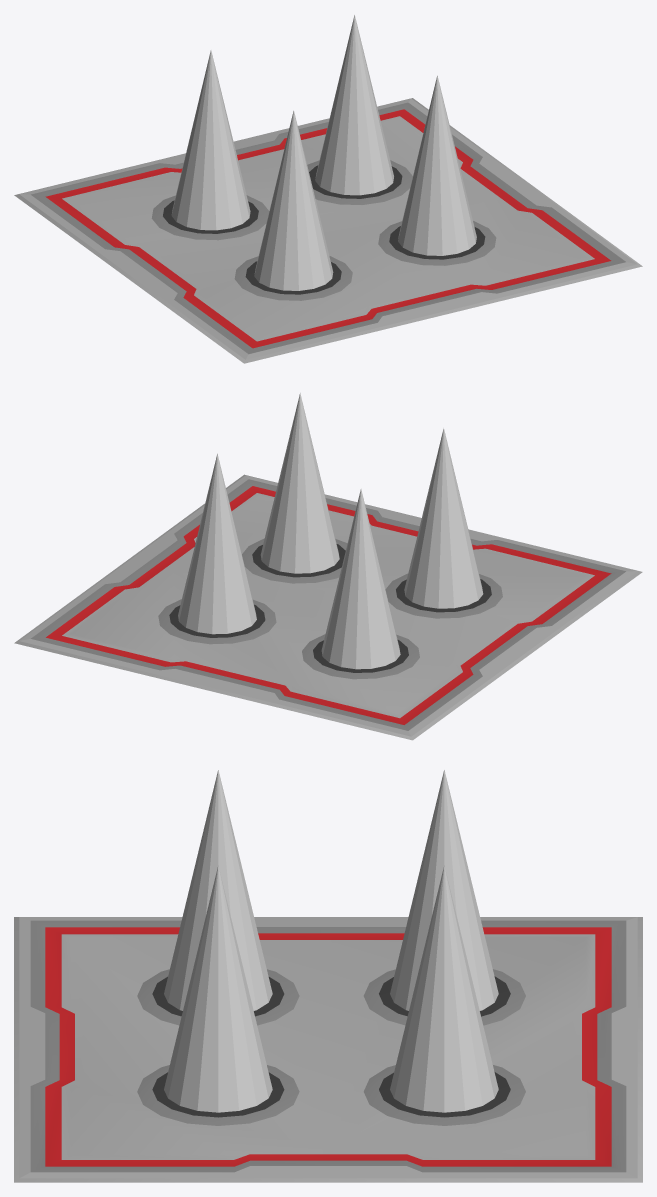
Rendered from Spikes.fbx.
3 views of the same model, one above another, from view 1: azimuth 30°, elevation 25°; view 2: azimuth 150°, elevation 25°; view 3: azimuth 270°, elevation 25° (orthographic). The views are drawn at different scales.
Parts seen in each view (by area): view 1: FloorTile_Basic2.001, Cone.001; view 2: FloorTile_Basic2.001, Cone.001; view 3: FloorTile_Basic2.001, Cone.001.
Part boxes in pixels (bbox=[...]): FloorTile_Basic2.001: bbox=[14, 98, 642, 363]; Cone.001: bbox=[171, 15, 476, 290]; FloorTile_Basic2.001: bbox=[14, 474, 642, 740]; Cone.001: bbox=[178, 393, 483, 669]; FloorTile_Basic2.001: bbox=[14, 917, 642, 1182]; Cone.001: bbox=[164, 770, 498, 1112].
Size of the model in its own units: 2 by 0.8208 by 2.
